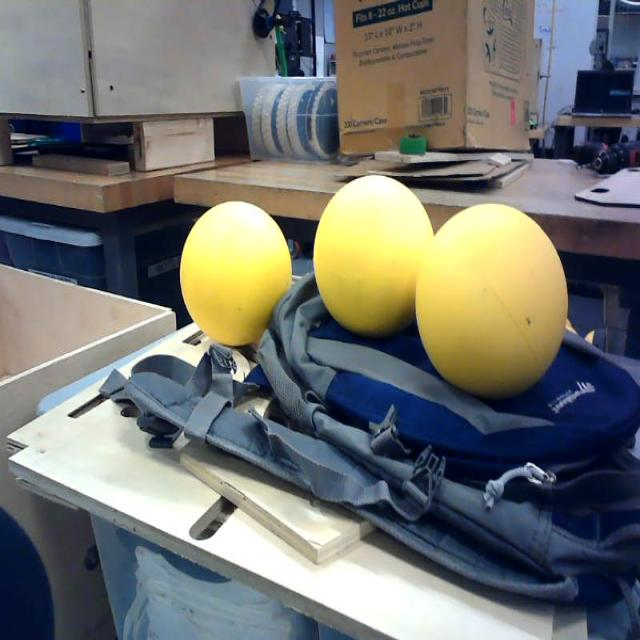Fuel: (415, 203, 569, 400), (313, 174, 435, 341), (180, 200, 292, 347)
